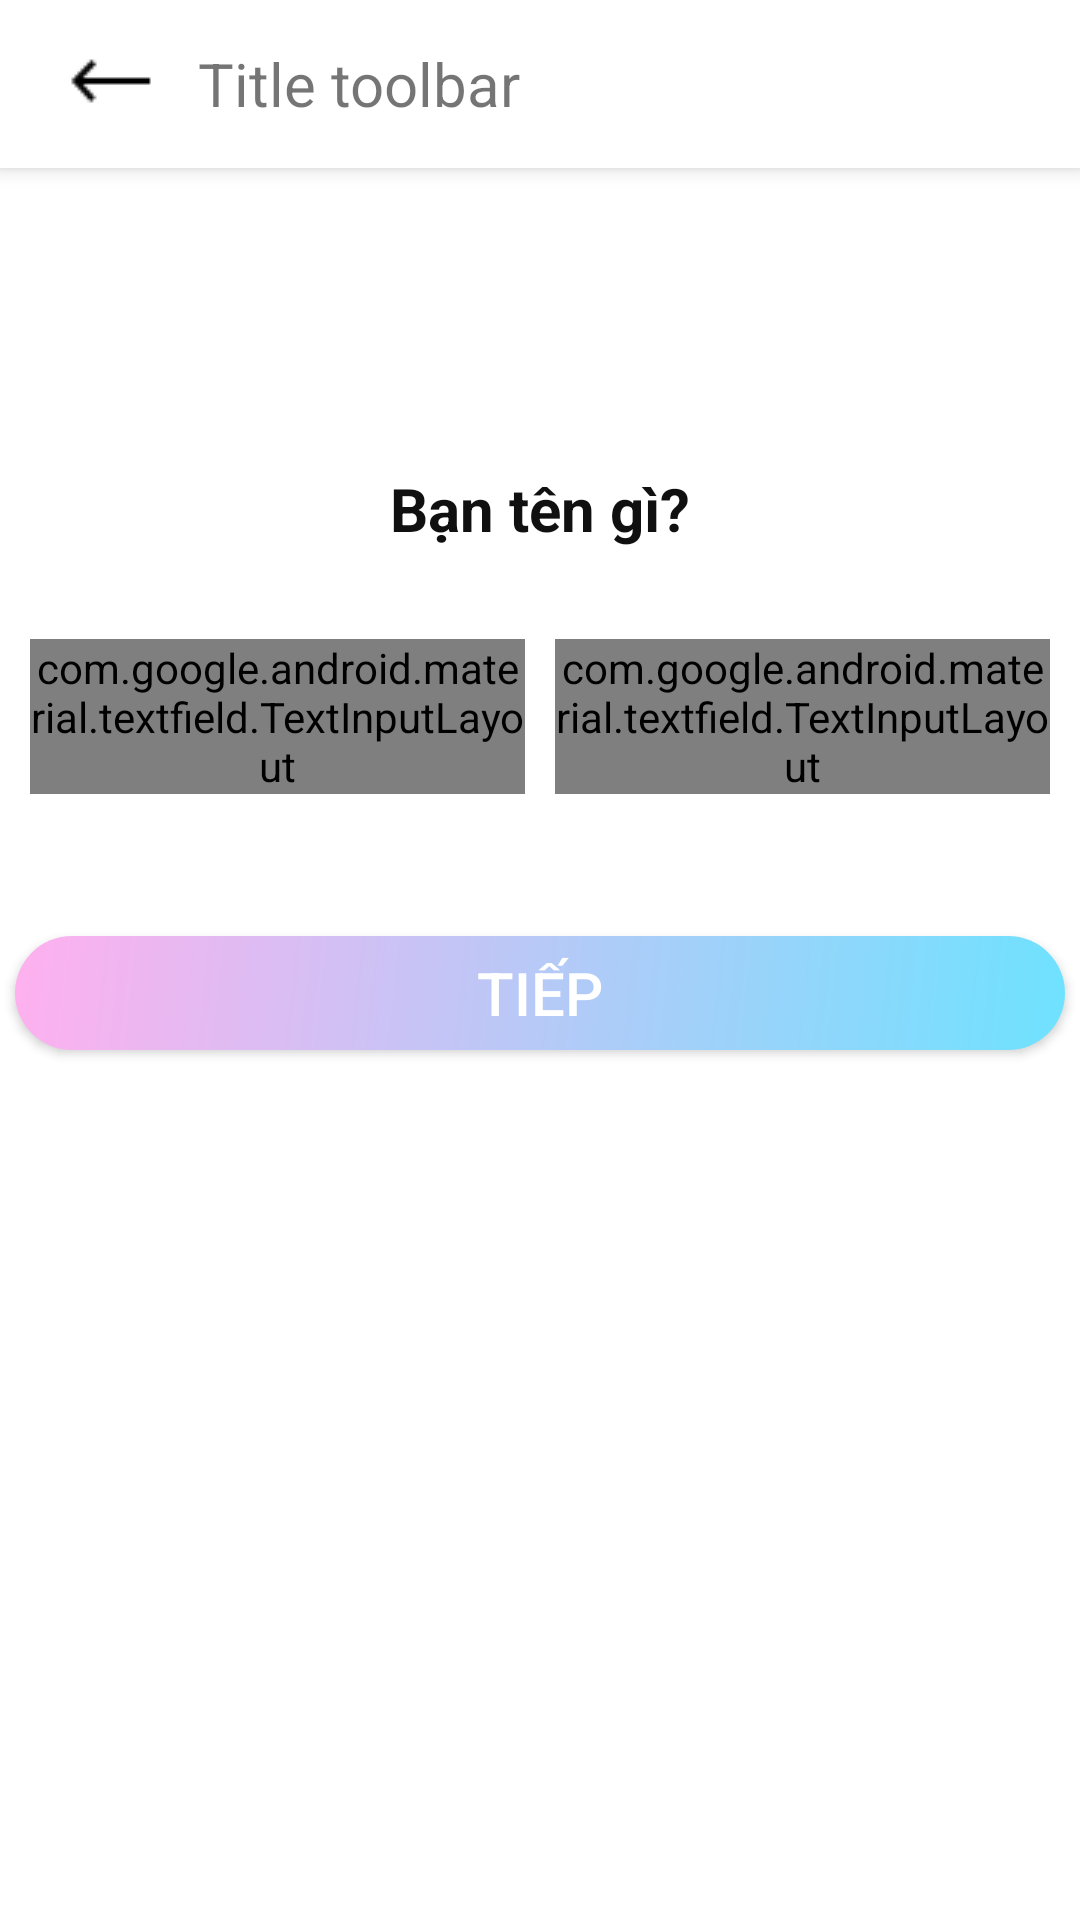

Named icons in this screenshot (1080x1920) and their centers, (x=x, y=y):
back toolbar: (x=111, y=81)
